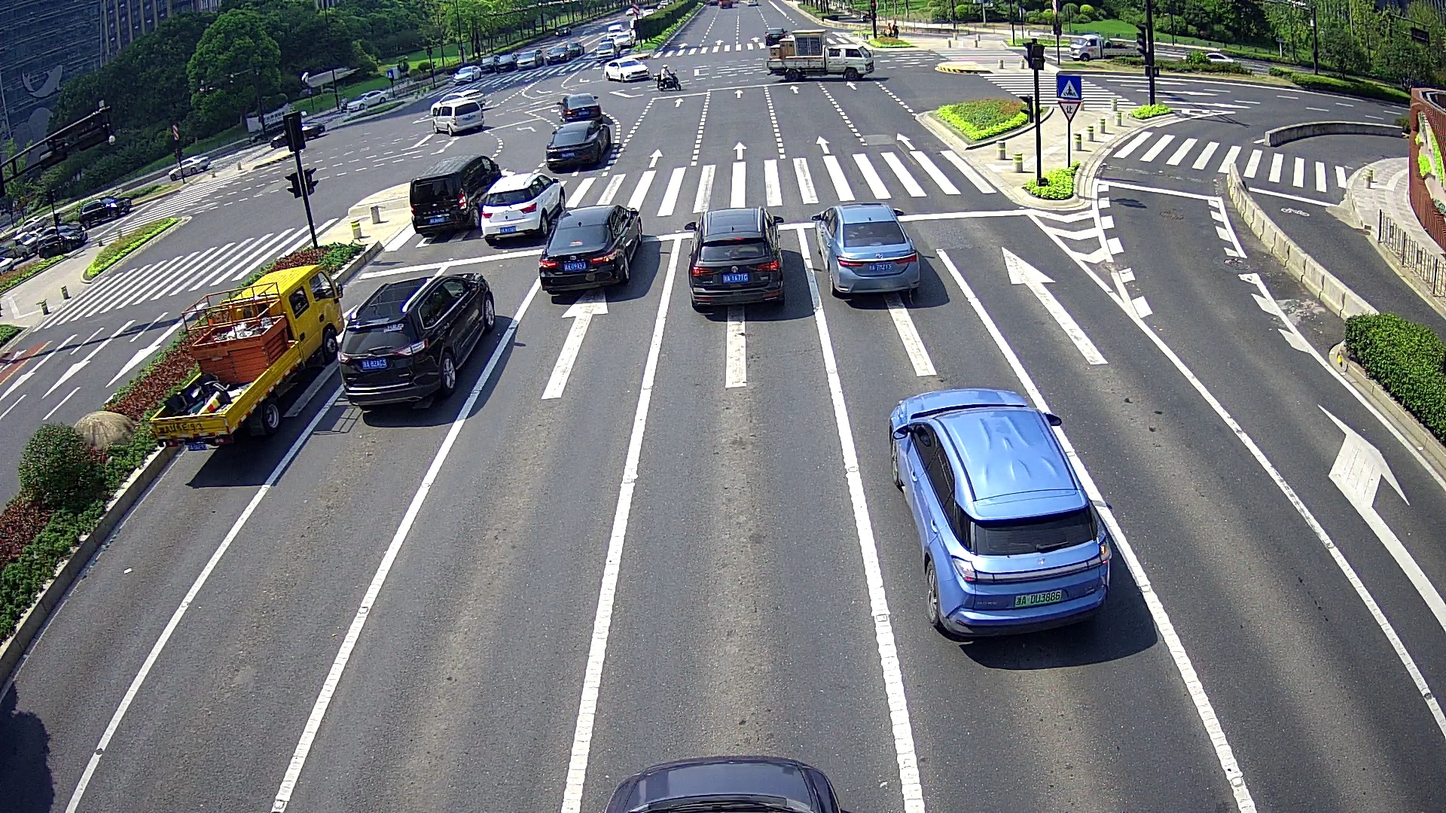vehicle: (880, 383, 1115, 644), (146, 258, 341, 457), (334, 268, 498, 415), (809, 199, 923, 303), (680, 206, 787, 310), (536, 202, 645, 294), (403, 150, 499, 238), (762, 25, 882, 81), (479, 171, 566, 245), (541, 118, 614, 172), (425, 88, 486, 141), (76, 196, 133, 222), (602, 53, 646, 82)
